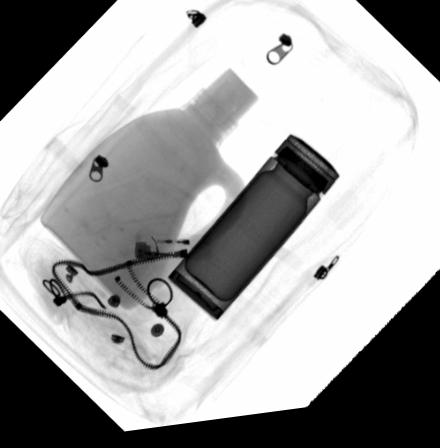Lighter: (133, 236, 212, 263)
